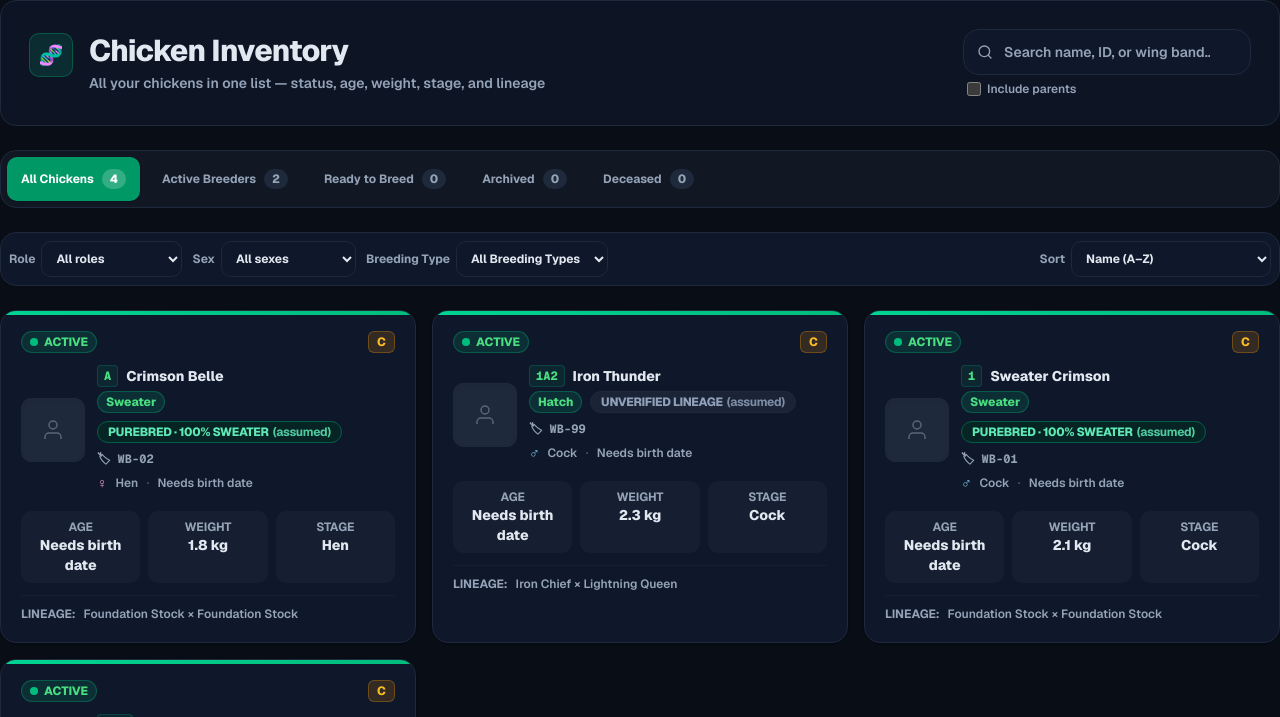
it: MarketplacePage (Chicken Inventory) search and filtering › clears search via Escape key and via the clear button
The width and height of the screenshot is (1280, 717).
In the search field named "Search Inventory": (1107, 52) [963,29,1251,75], type "crim"
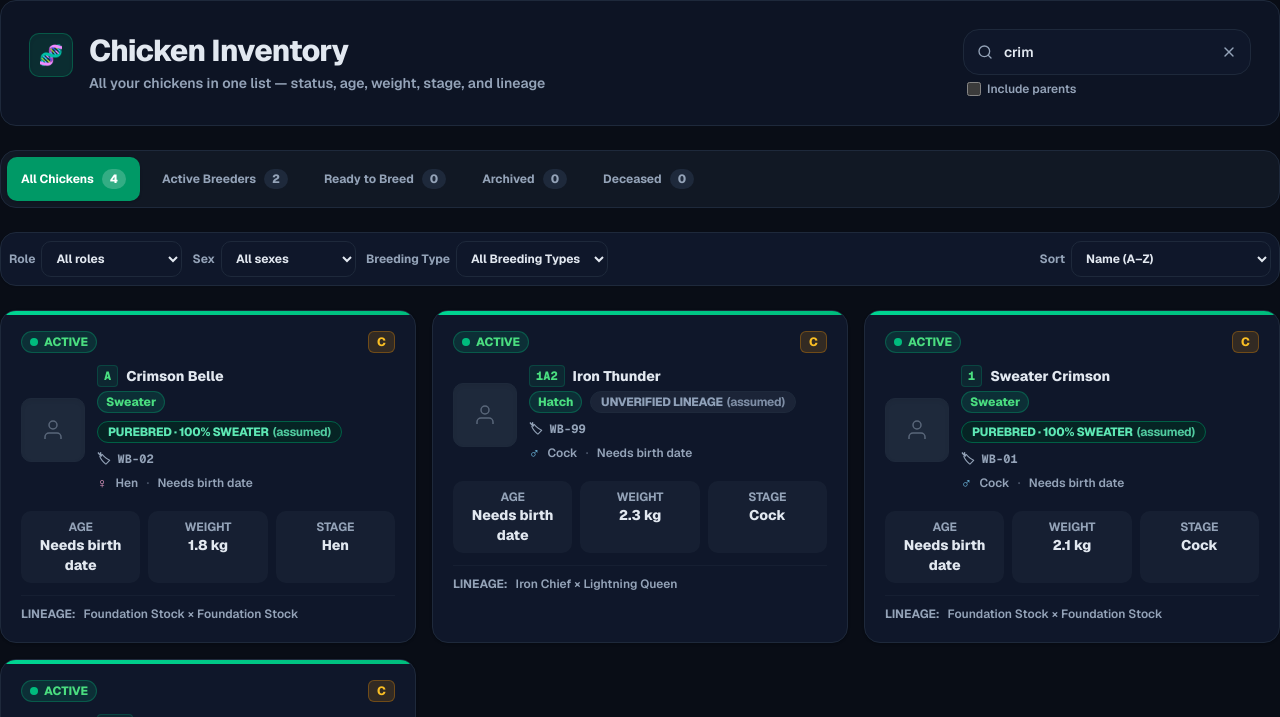
Note: Press Escape
Press Escape in the search field named "Search Inventory", box [963,29,1251,75]
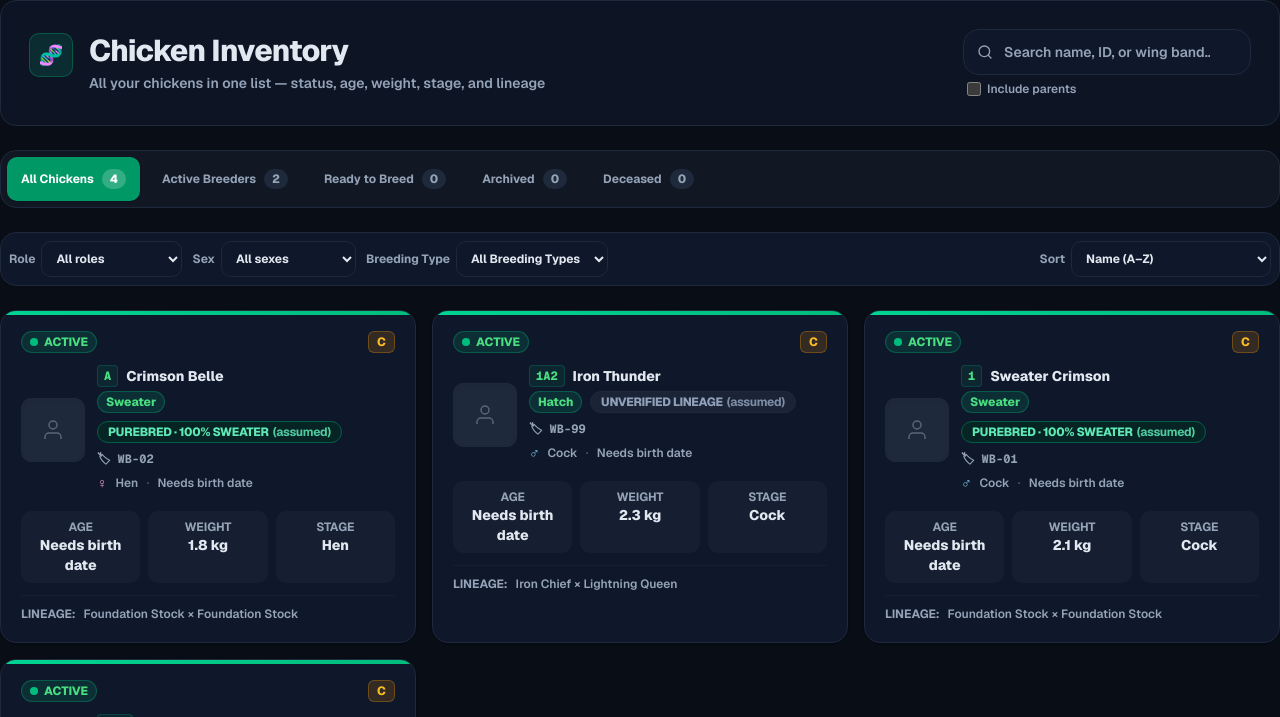
Now the search field named "Search Inventory" is empty
Note: Retype and test Clear search link in banner
In the search field named "Search Inventory": (1107, 52) [963,29,1251,75], type "crim"
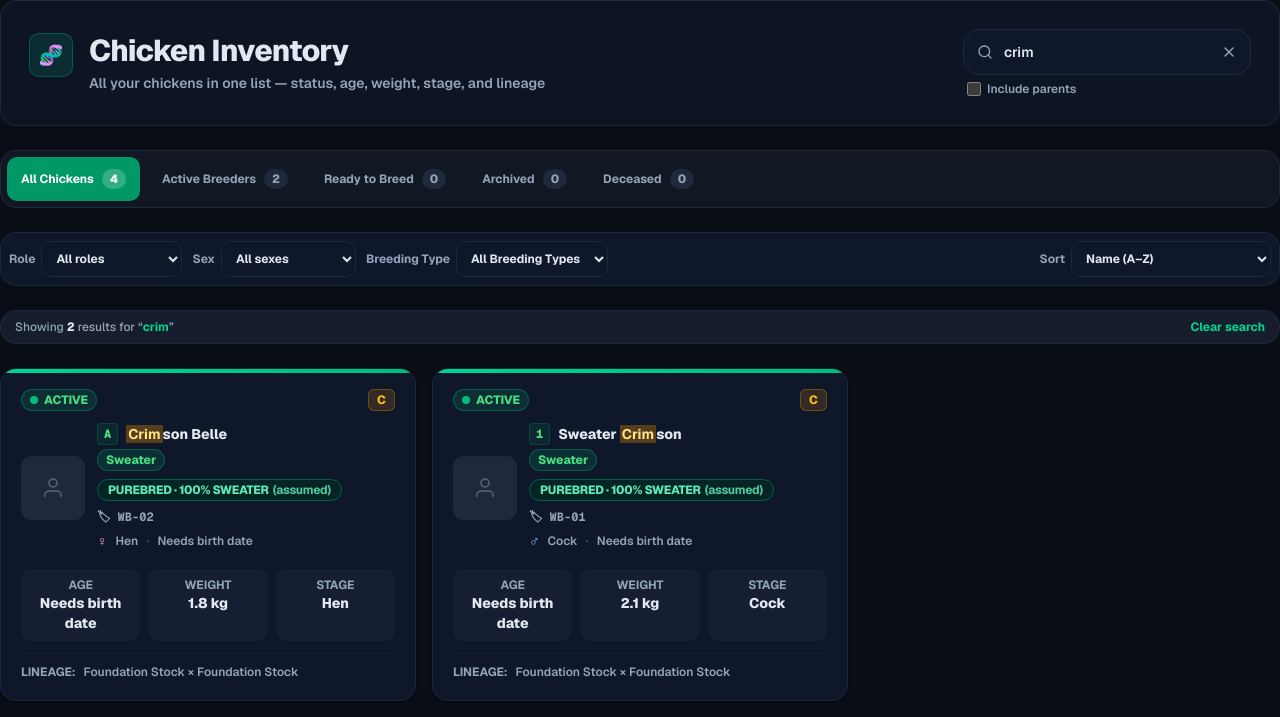
Now the element with test id "search-results-banner" is shown, box [0,310,1279,344]
Click the button named "Clear search": (1229, 52) [1217,40,1241,64]
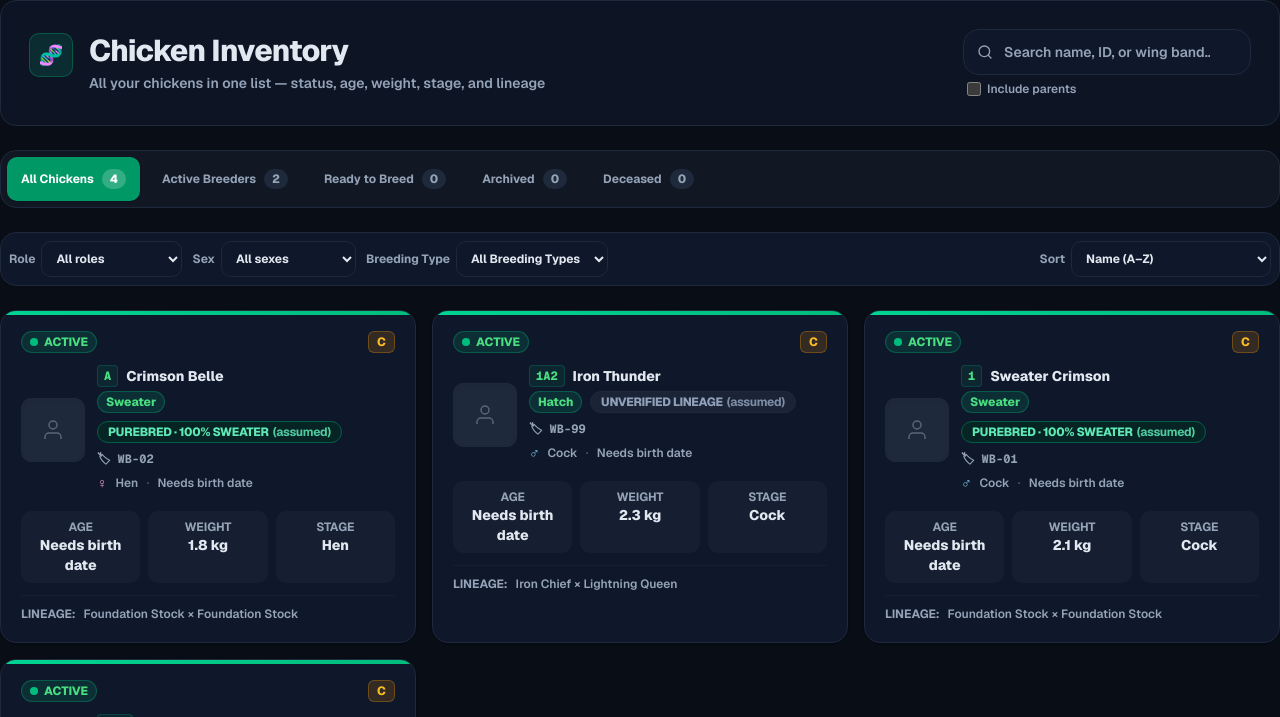
Now the search field named "Search Inventory" is empty, box [963,29,1251,75]
